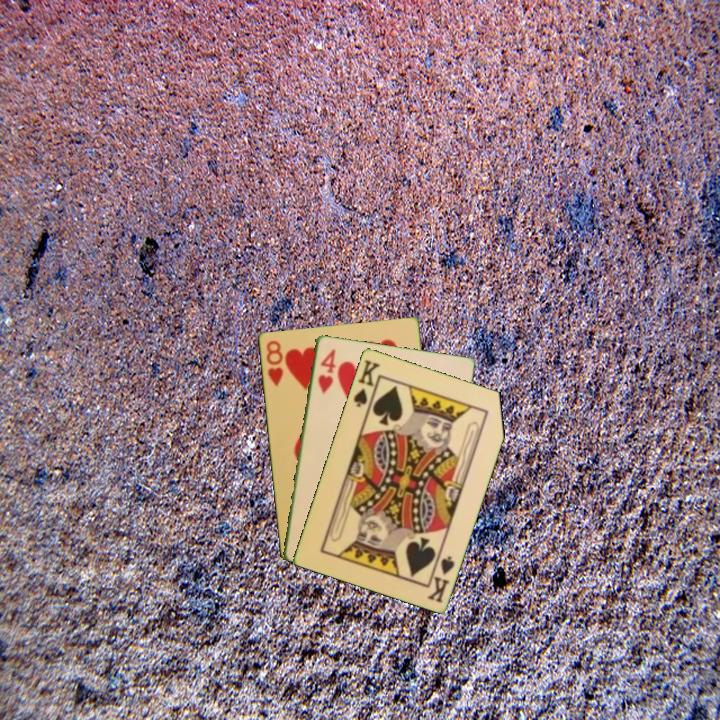4h: (314, 345, 338, 396)
8h: (262, 337, 285, 389)
Ks: (423, 548, 457, 606), (350, 356, 383, 413)
